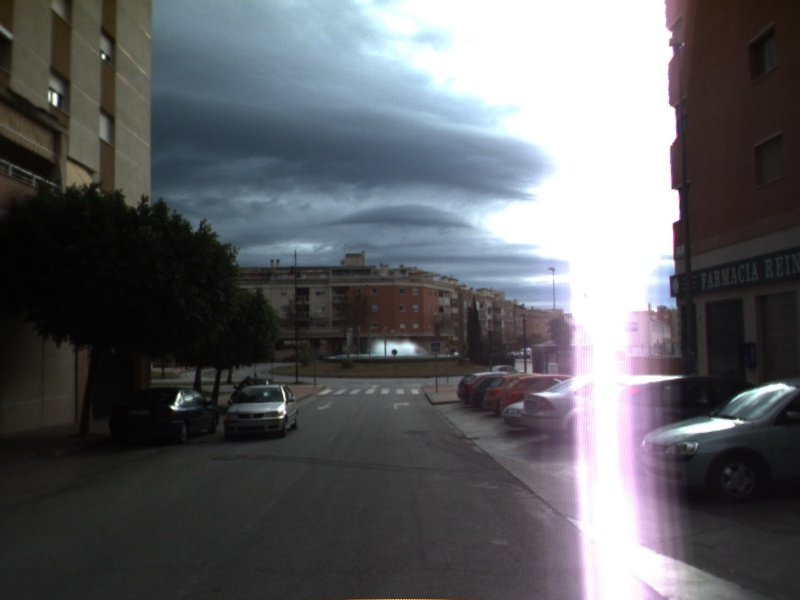RIGHT: (391, 399, 413, 412)
